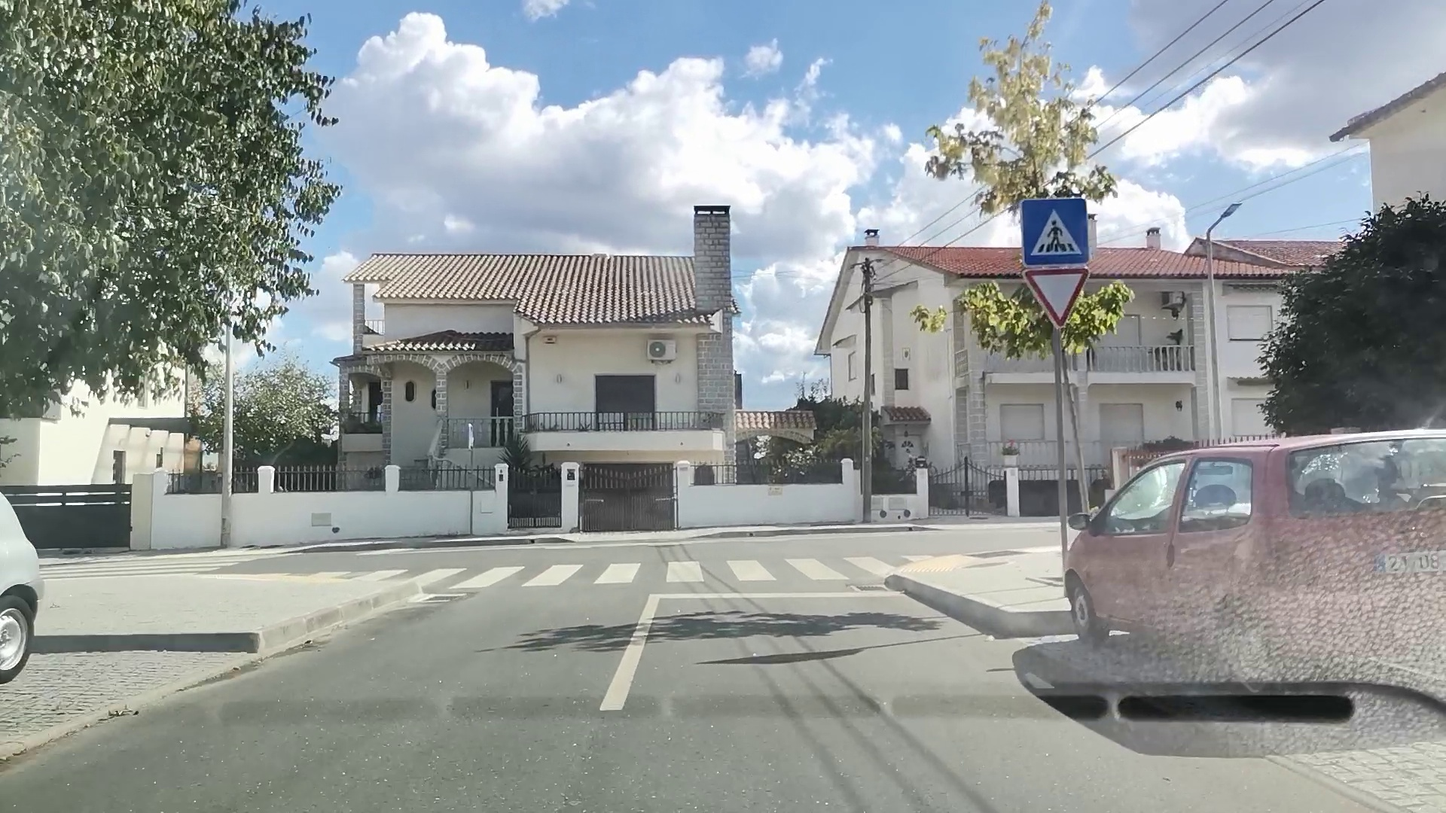Stairs: (300, 560, 910, 590)
